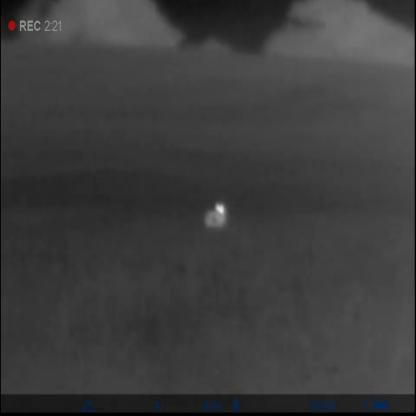rehkitze: (203, 201, 230, 234)
